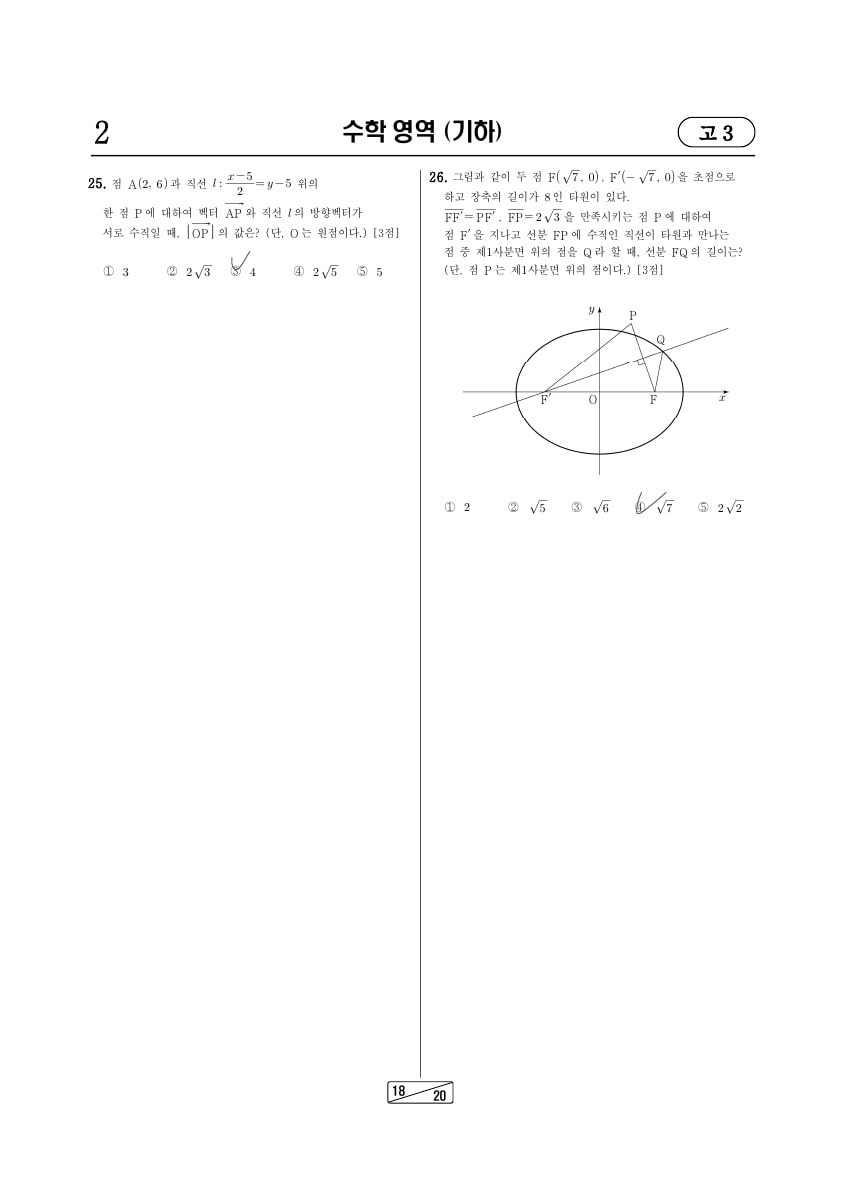question: (420, 158, 762, 541), (78, 163, 410, 294)
